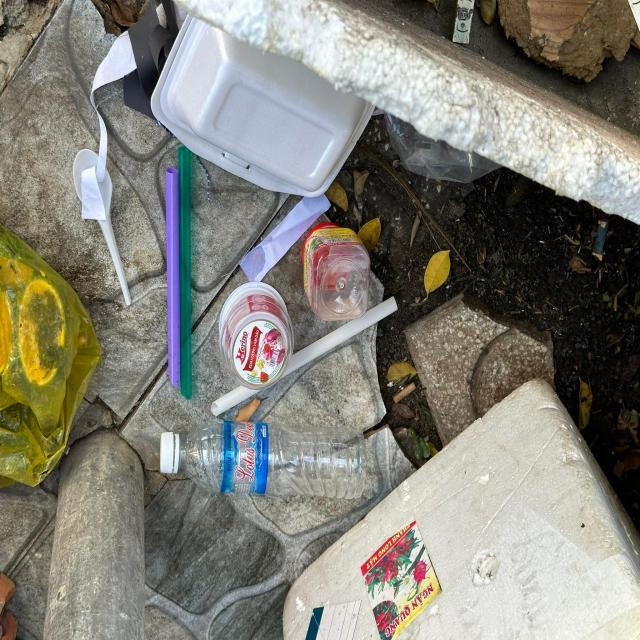bottle: (160, 423, 366, 499)
clothes: (80, 32, 136, 223), (242, 190, 332, 284)
drinking straw: (212, 296, 398, 418), (179, 146, 192, 400), (166, 168, 180, 388)
foam box: (150, 12, 378, 200)
plastic holder: (221, 281, 294, 390), (303, 221, 369, 319)
plastic utensil: (74, 149, 131, 307)
trash bag: (0, 231, 104, 488)
